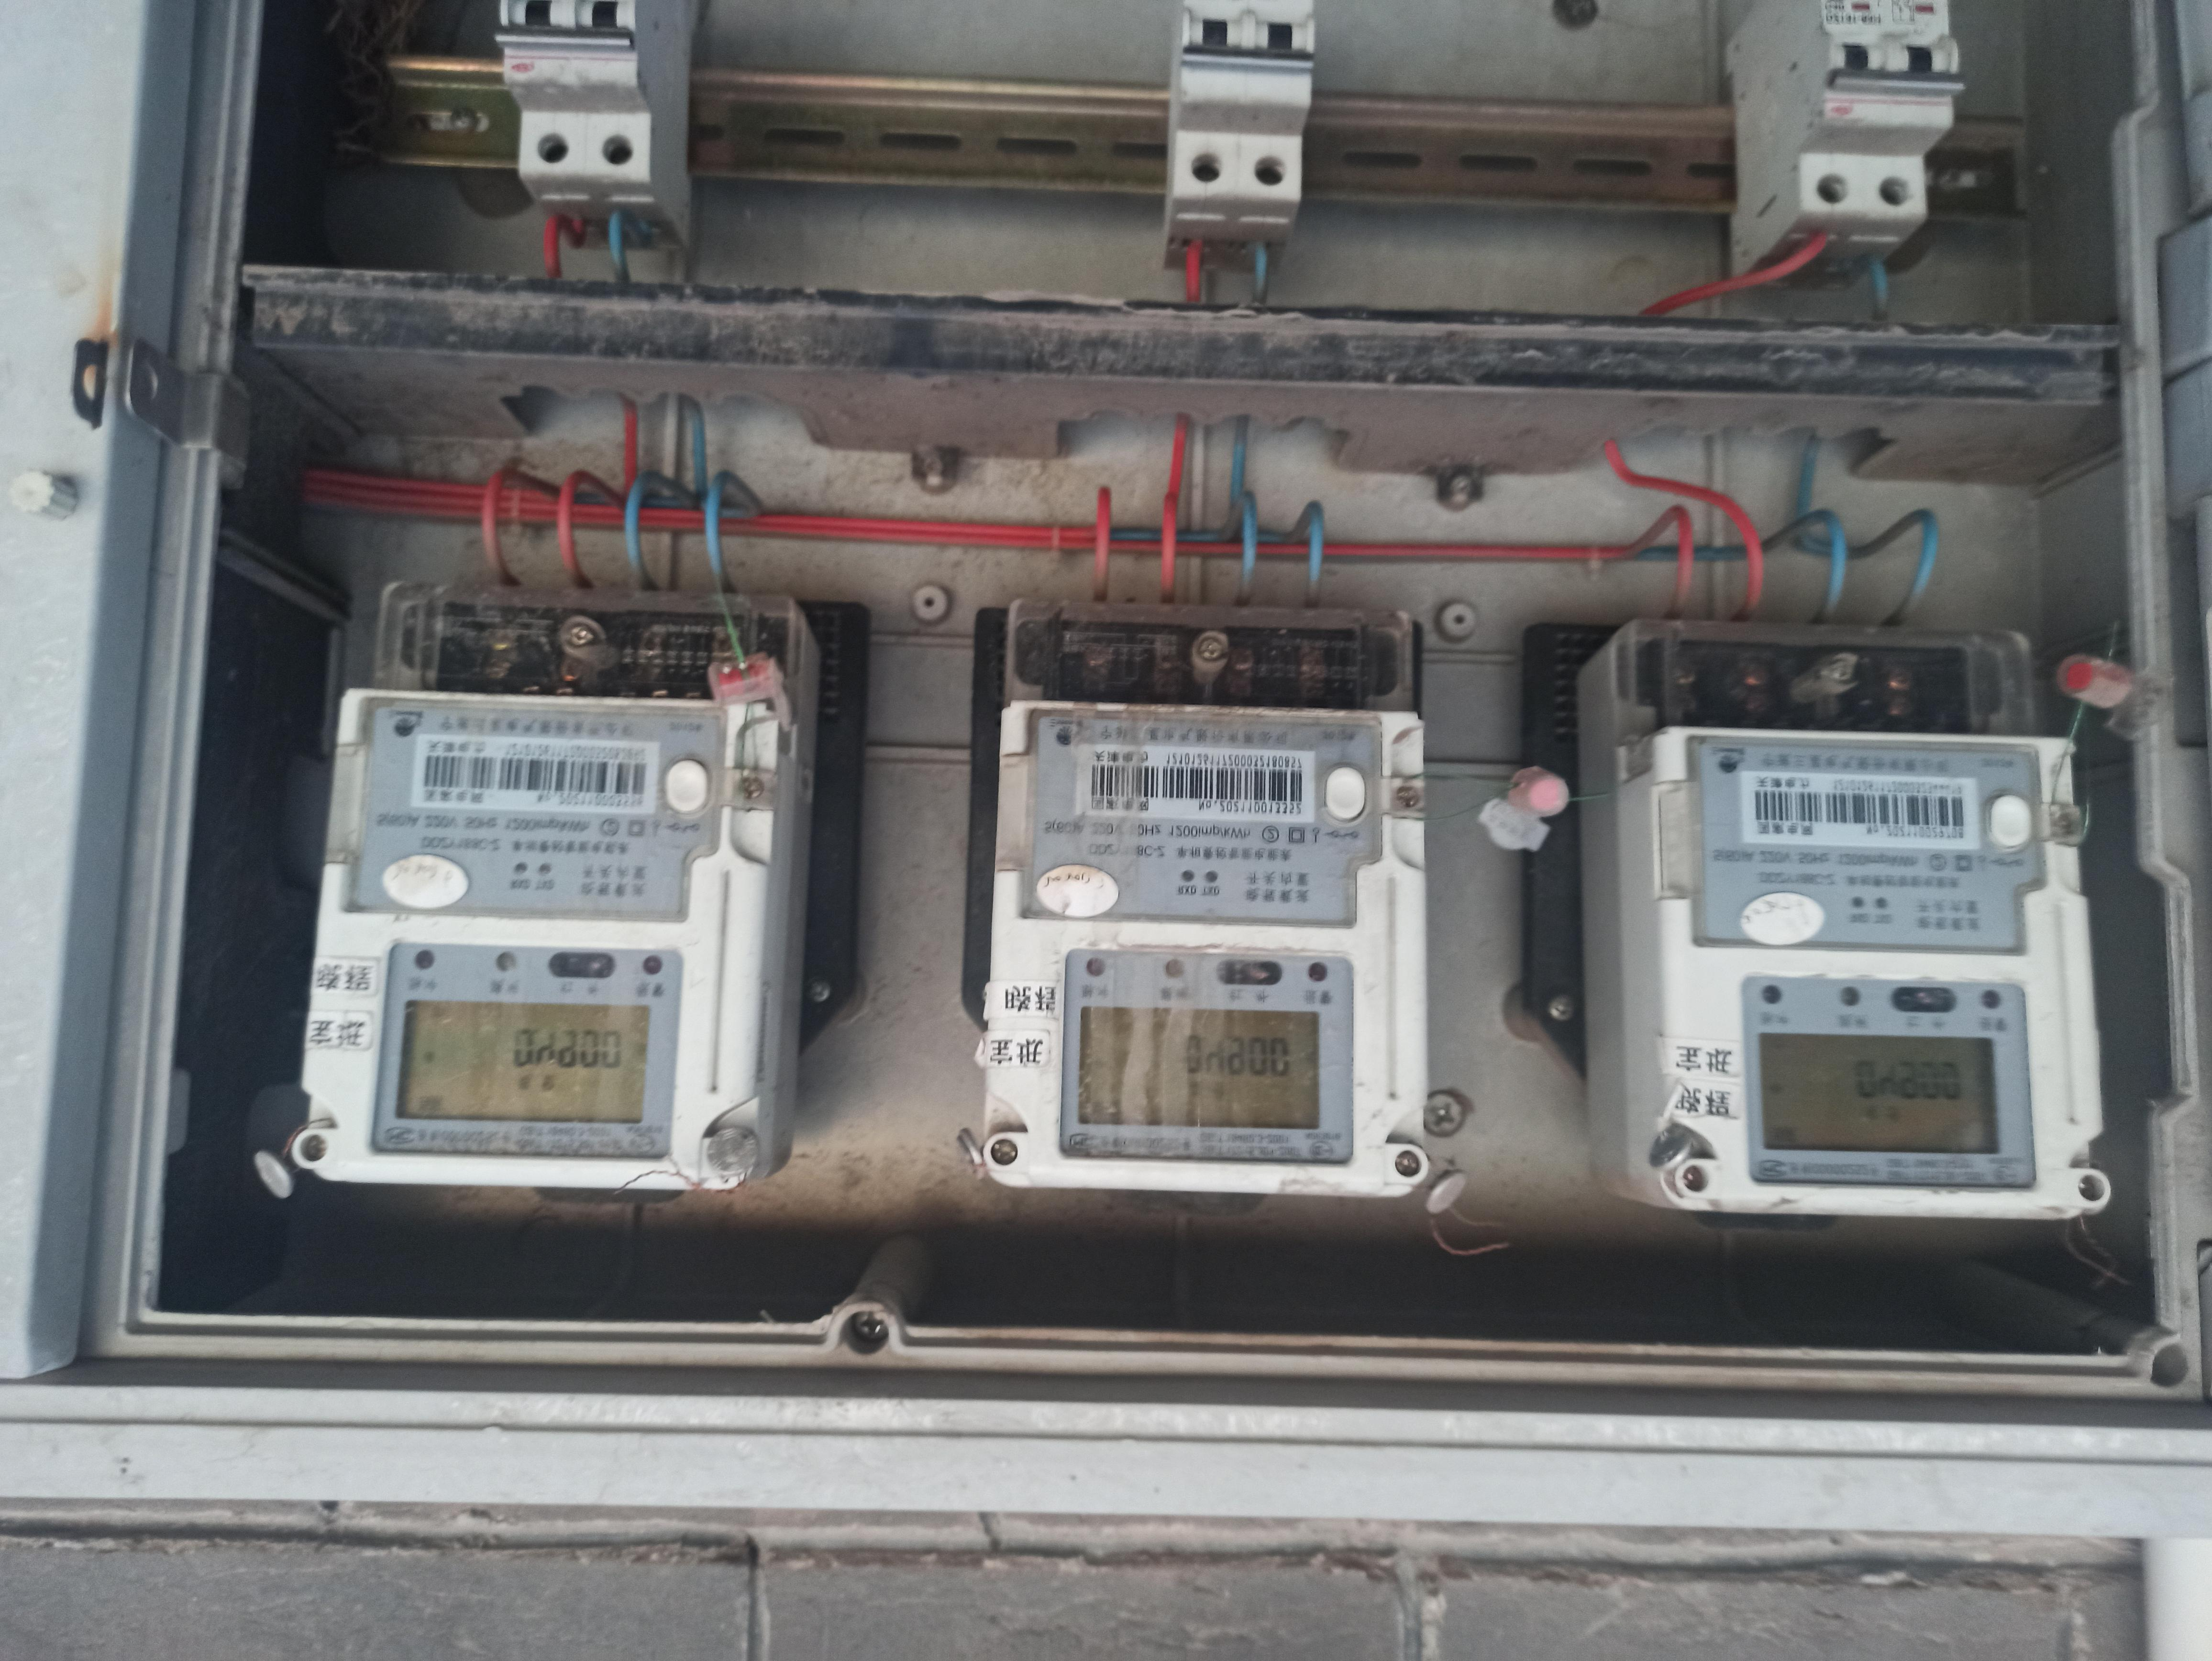digital: (298, 691, 764, 1192), (1650, 729, 2106, 1213), (986, 701, 1423, 1195)
